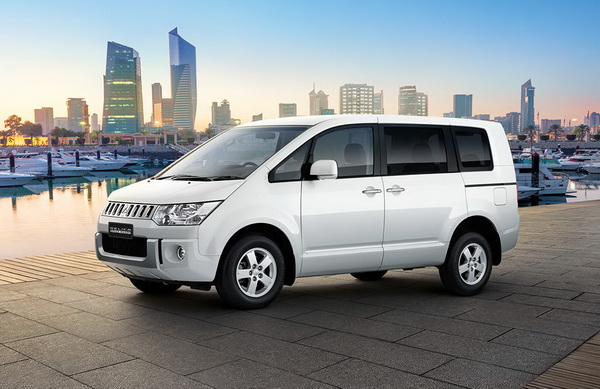van: (93, 113, 521, 311)
